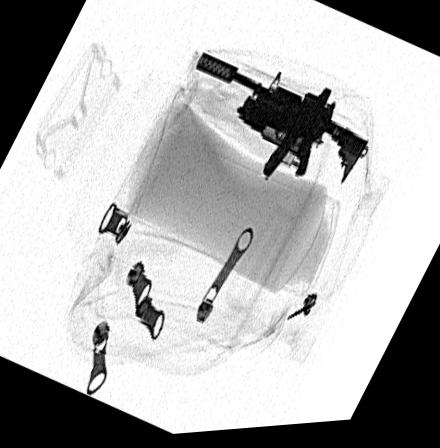Bullet: (237, 112, 314, 159)
Gun: (197, 55, 370, 188)
